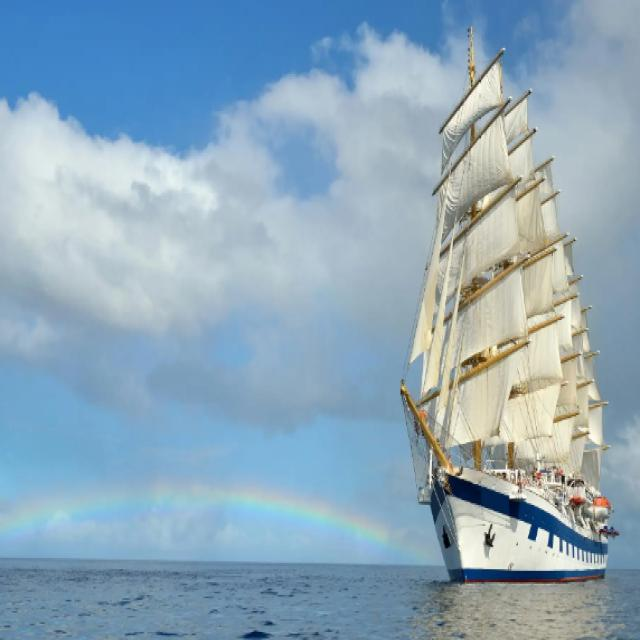houseboat: (410, 58, 626, 571)
